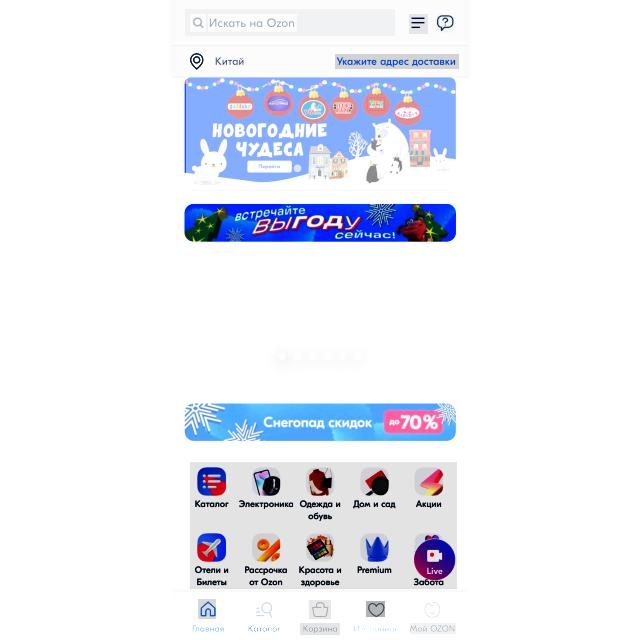CheckBox: (335, 54, 459, 69)
CheckedTextView: (185, 9, 395, 36)
ImageView: (186, 77, 456, 192), (184, 402, 456, 442), (184, 203, 456, 242)
TextView: (190, 462, 457, 589)
bag: (169, 0, 471, 77)
carousel: (252, 600, 274, 620), (309, 600, 331, 619), (436, 13, 455, 33), (198, 599, 216, 619), (422, 601, 441, 618), (188, 51, 204, 71), (366, 601, 385, 617), (190, 14, 206, 32), (411, 16, 427, 31)
data feed: (208, 14, 297, 32), (188, 622, 226, 636), (353, 623, 401, 634), (410, 623, 456, 634), (300, 623, 340, 635), (246, 622, 282, 632)
decoration: (177, 592, 466, 640), (409, 14, 428, 34)
